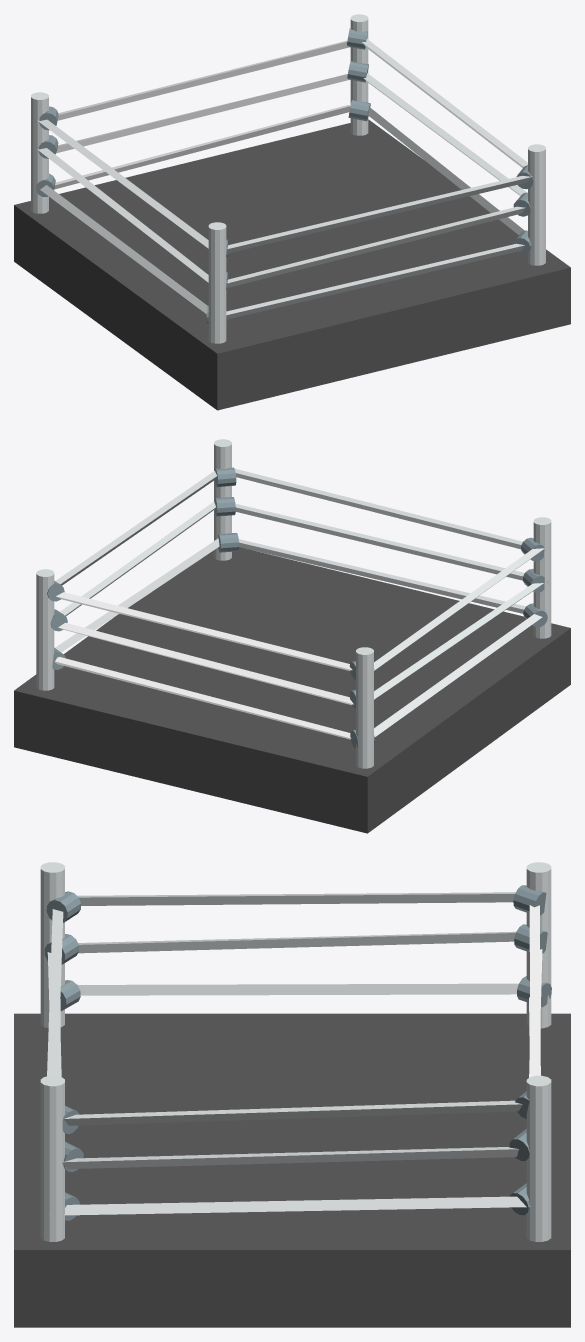
Rendered from boxing_ring.glb.
The picture shows the model from 3 angles, top to bottom: view 1: azimuth 30°, elevation 25°; view 2: azimuth 150°, elevation 25°; view 3: azimuth 270°, elevation 25°; orthographic projection. The views are drawn at different scales.
Parts seen in each view (by area): view 1: group1789843137, group1275628182, group586979153, group1978665617, group313545112, group869527918, group212618455, group176863003, group1705310817, group1117102396, group1940082250, group1477715337 (+5 smaller); view 2: group1789843137, group1275628182, group1978665617, group212618455, group313545112, group586979153, group176863003, group1940082250, group261263682, group869527918, group1117102396, group1477715337 (+5 smaller); view 3: group1789843137, group1477715337, group367311624, group1615548298, group1117102396, group1171447778, group1859992343, group261263682, group1705310817, group869527918, group1940082250, group1275628182 (+3 smaller).
Part boxes in pixels (x1,y1,x2,y2): group1789843137: (14, 119, 570, 410); group1275628182: (227, 175, 532, 253); group586979153: (226, 243, 524, 319); group1978665617: (227, 206, 525, 287); group313545112: (57, 40, 349, 120); group869527918: (208, 222, 226, 343); group212618455: (56, 74, 349, 153); group176863003: (54, 105, 350, 189); group1705310817: (528, 144, 545, 265); group1117102396: (40, 185, 207, 314); group1940082250: (31, 92, 48, 213); group1477715337: (362, 39, 527, 167); group1789843137: (14, 547, 570, 833); group1275628182: (234, 468, 522, 549); group1978665617: (235, 503, 524, 580); group212618455: (58, 622, 353, 705); group313545112: (56, 592, 352, 670); group586979153: (238, 539, 525, 613); group176863003: (54, 657, 351, 739); group1940082250: (356, 647, 373, 768); group261263682: (36, 569, 54, 690); group869527918: (533, 517, 551, 638); group1117102396: (374, 614, 542, 736); group1477715337: (55, 471, 216, 585); group1789843137: (14, 1013, 570, 1327); group1477715337: (64, 1100, 522, 1125); group367311624: (64, 1196, 530, 1215); group1615548298: (62, 1147, 518, 1169); group1117102396: (77, 983, 518, 995); group1171447778: (77, 892, 515, 905); group1859992343: (78, 931, 515, 953); group261263682: (526, 1075, 551, 1241); group1705310817: (40, 1075, 64, 1241); group869527918: (40, 862, 64, 1027); group1940082250: (526, 862, 551, 1028); group1275628182: (47, 909, 63, 1076).
Size of the model in its own units: 0.4398 by 0.2027 by 0.4382.
